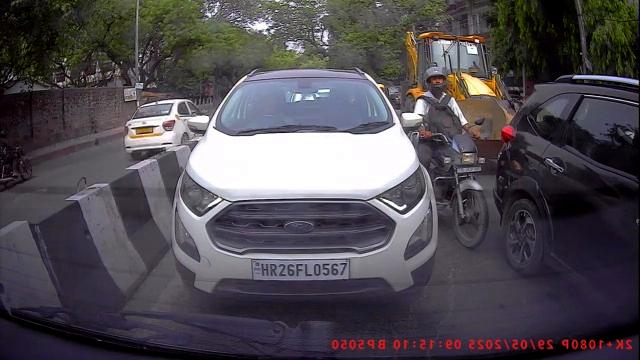motorcycle_with_helmet: (406, 64, 493, 250)
